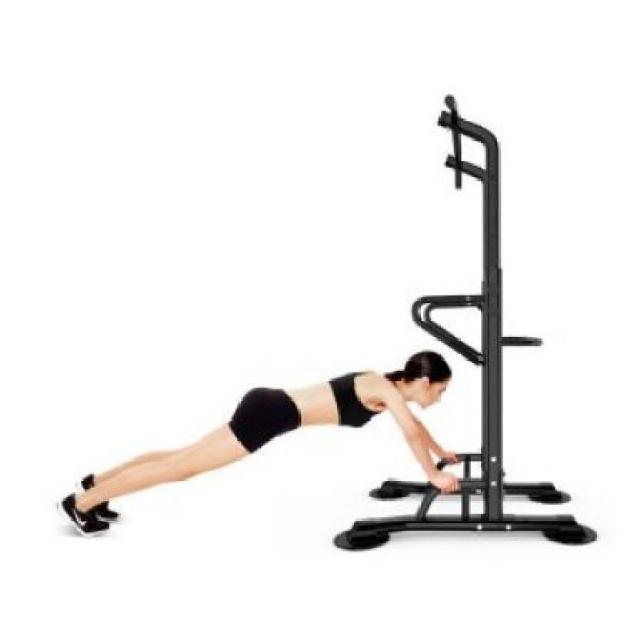chinning dipping: (413, 92, 604, 546)
